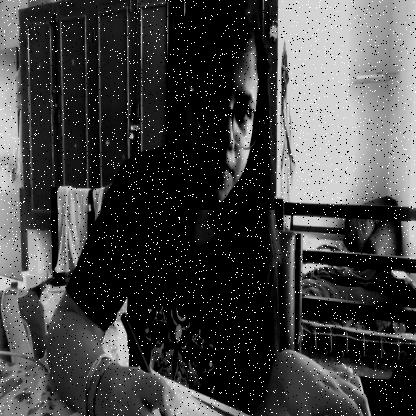Normal: (166, 0, 278, 210)
